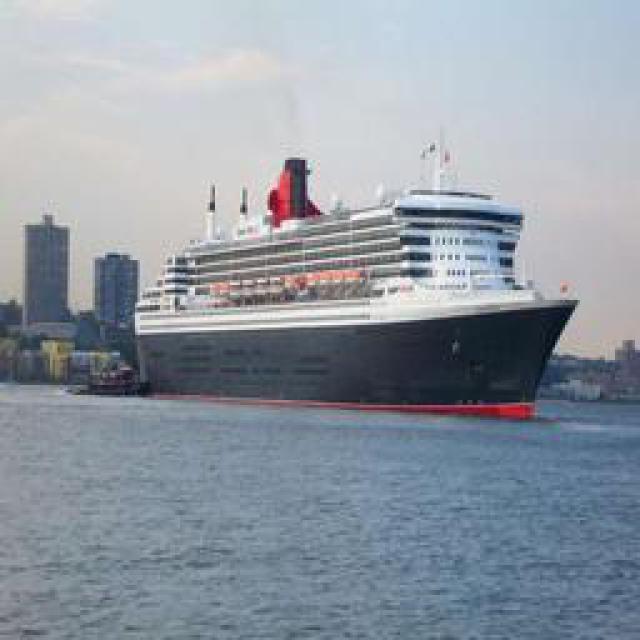Ship: (134, 172, 589, 429)
